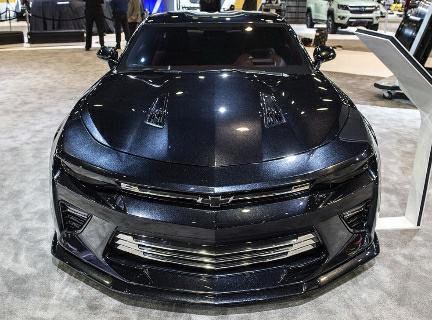雪佛兰-科迈罗: (47, 8, 388, 306)
